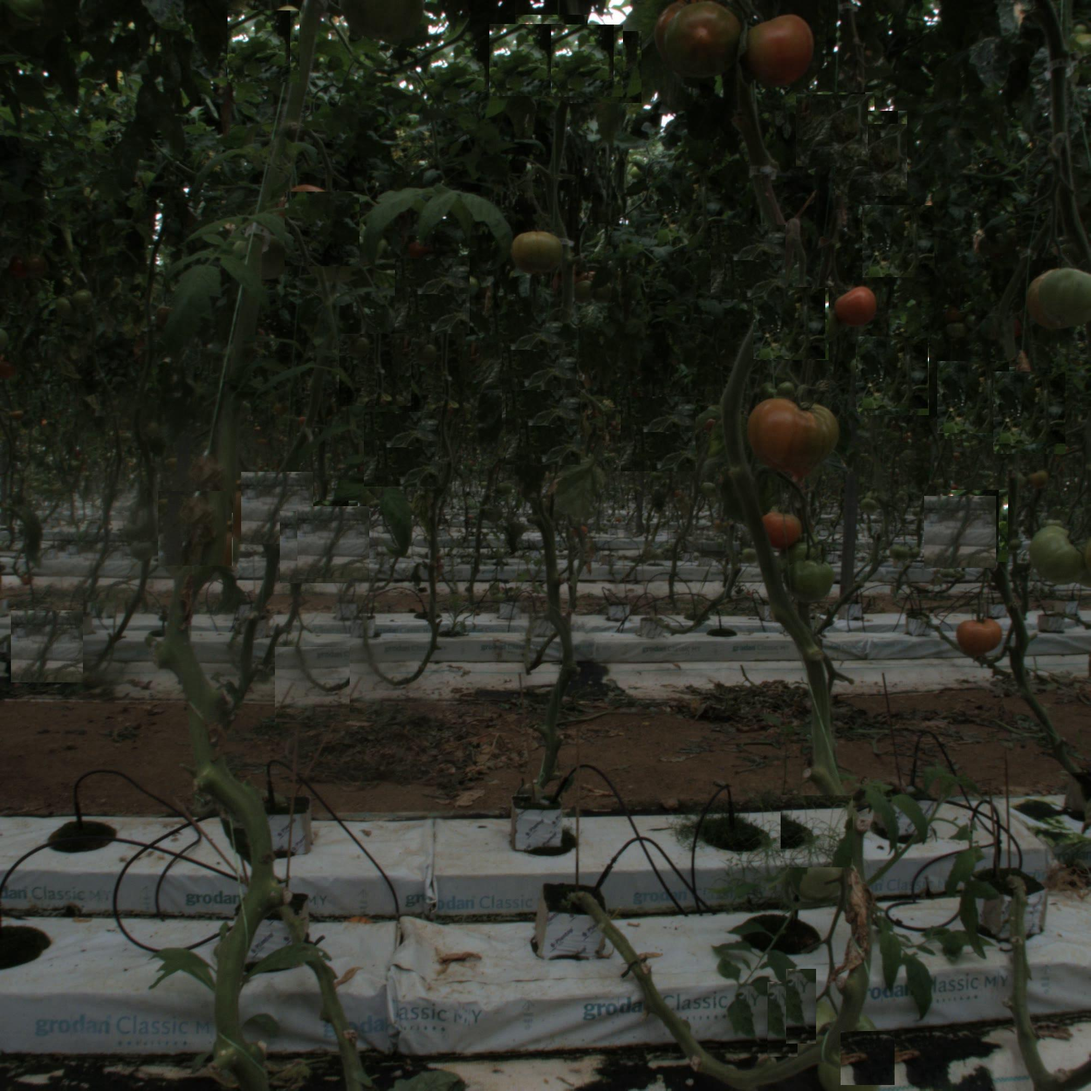['unripe', 'semi-ripe', 'fully-ripe']: (1026, 524, 1081, 579), (1033, 271, 1087, 326), (790, 561, 836, 607)
